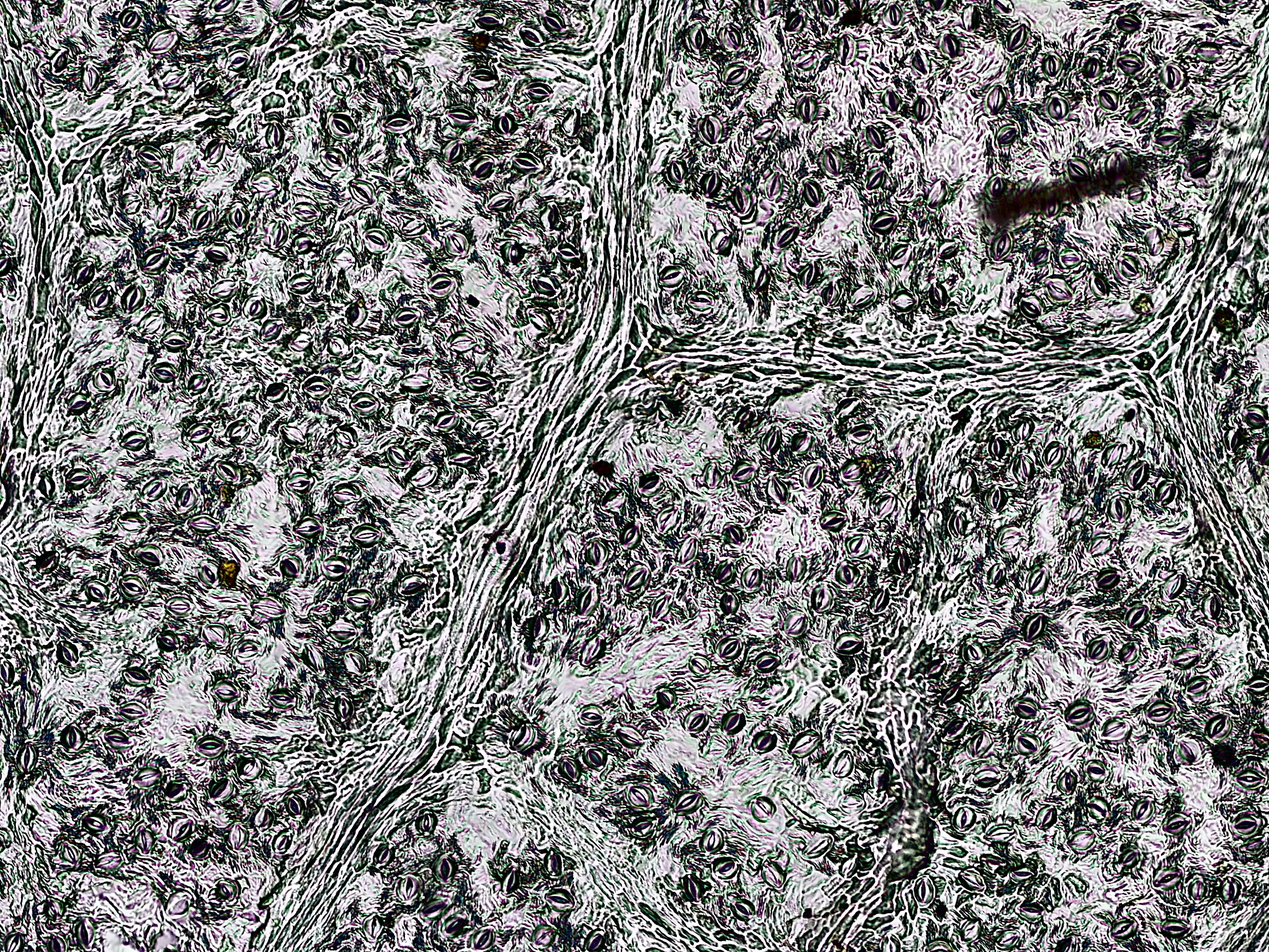stomata: (988, 228, 1017, 261), (13, 740, 39, 776), (509, 717, 535, 753), (963, 727, 991, 760), (320, 555, 354, 582), (787, 732, 823, 757), (621, 567, 652, 596), (1064, 700, 1097, 727), (195, 733, 229, 759), (656, 502, 682, 536), (351, 524, 386, 549), (324, 619, 359, 644), (325, 112, 356, 140), (819, 148, 847, 179), (581, 636, 609, 667), (948, 806, 979, 834), (225, 200, 251, 233), (196, 559, 225, 588), (832, 631, 863, 658), (1103, 150, 1129, 182), (994, 525, 1026, 551), (250, 595, 286, 618), (1194, 41, 1228, 65), (1044, 276, 1073, 304), (136, 143, 166, 170), (140, 247, 170, 274), (526, 306, 556, 333), (811, 584, 838, 614), (835, 563, 866, 589), (362, 912, 388, 943), (512, 149, 544, 174), (983, 83, 1007, 116), (330, 245, 357, 274), (427, 274, 456, 301), (1205, 713, 1232, 742), (672, 788, 703, 813), (802, 833, 833, 858), (1013, 733, 1044, 758), (120, 283, 144, 315), (1042, 440, 1066, 472), (913, 876, 936, 909), (539, 203, 566, 231), (720, 24, 747, 52), (235, 755, 264, 781), (762, 858, 788, 887), (301, 374, 331, 399), (350, 392, 380, 417), (1161, 63, 1186, 93), (580, 927, 610, 952), (148, 28, 179, 52), (117, 576, 148, 600), (796, 93, 820, 124), (293, 517, 325, 540), (463, 370, 495, 393), (613, 725, 645, 748), (1232, 813, 1267, 834), (959, 869, 986, 896), (847, 283, 875, 309), (155, 196, 177, 229), (816, 509, 849, 531), (1127, 461, 1149, 494), (1028, 564, 1050, 597), (1233, 767, 1266, 789), (397, 573, 427, 597), (1142, 229, 1166, 259), (1144, 699, 1174, 723), (116, 511, 147, 534), (444, 103, 475, 126), (292, 200, 323, 223), (302, 643, 325, 674), (763, 171, 786, 202), (1211, 355, 1234, 386), (629, 816, 660, 839), (273, 0, 305, 22), (164, 892, 191, 918), (443, 232, 470, 258), (1101, 716, 1127, 743), (706, 229, 734, 254), (873, 492, 898, 520), (1123, 602, 1148, 630), (683, 871, 703, 906), (71, 259, 95, 288), (165, 595, 194, 619), (408, 465, 437, 489), (561, 108, 585, 137), (1117, 51, 1146, 75), (682, 711, 711, 735), (627, 784, 656, 808), (1159, 814, 1192, 835), (60, 723, 83, 753), (688, 24, 711, 54), (585, 540, 608, 570), (1012, 454, 1035, 484), (741, 563, 764, 593), (1085, 634, 1108, 664), (1021, 612, 1044, 642), (285, 473, 316, 495), (468, 67, 499, 89), (521, 80, 552, 102), (401, 374, 435, 394), (710, 858, 744, 878), (1106, 498, 1132, 524), (530, 924, 556, 950), (352, 179, 377, 206), (386, 445, 413, 470), (1003, 24, 1028, 51), (782, 610, 807, 637), (396, 874, 421, 901), (444, 333, 476, 354), (862, 164, 886, 192), (656, 267, 688, 288), (1043, 96, 1067, 124), (577, 585, 598, 617), (1154, 478, 1175, 510), (89, 285, 112, 314), (332, 482, 361, 505), (699, 116, 722, 145), (678, 538, 701, 567), (801, 462, 824, 491), (946, 511, 969, 540), (869, 587, 892, 616), (189, 513, 219, 535), (801, 178, 823, 208), (687, 291, 717, 313), (982, 823, 1015, 843), (1018, 901, 1048, 923), (118, 699, 149, 720), (986, 485, 1007, 516), (118, 7, 143, 33), (138, 308, 163, 334), (1018, 296, 1044, 321), (433, 856, 458, 882), (1033, 806, 1059, 831), (1041, 53, 1065, 80), (76, 915, 95, 949), (204, 303, 232, 326), (212, 679, 240, 702), (720, 63, 748, 86), (766, 476, 789, 504), (650, 594, 673, 622), (1012, 417, 1035, 445), (751, 728, 774, 756), (959, 916, 982, 944), (963, 639, 986, 667), (227, 820, 247, 852), (733, 183, 753, 215), (1067, 829, 1096, 851), (207, 279, 237, 300), (134, 826, 155, 856), (226, 48, 251, 73), (717, 635, 742, 660), (202, 623, 228, 647), (364, 227, 388, 253), (493, 113, 519, 137), (797, 263, 821, 289), (1094, 568, 1120, 592), (472, 926, 496, 952), (583, 744, 607, 770), (1055, 768, 1079, 794), (141, 476, 168, 499), (208, 779, 231, 806), (279, 425, 306, 448), (344, 651, 367, 678), (519, 25, 546, 48), (541, 12, 568, 35), (554, 242, 581, 265), (701, 170, 724, 197), (636, 474, 663, 497), (711, 559, 734, 586), (531, 613, 551, 644), (1205, 592, 1225, 623), (911, 48, 933, 76), (1123, 104, 1151, 126), (940, 718, 968, 740), (836, 33, 854, 67), (64, 469, 93, 490), (316, 147, 345, 168), (242, 293, 263, 322), (471, 419, 500, 440), (731, 463, 760, 484), (761, 427, 782, 456), (545, 889, 574, 910), (381, 115, 413, 134), (266, 217, 285, 249), (393, 58, 413, 88), (333, 425, 358, 449), (891, 290, 916, 314), (1089, 532, 1114, 556), (1186, 674, 1211, 698), (213, 460, 239, 483), (1117, 11, 1143, 34), (732, 896, 755, 922), (750, 797, 773, 823), (1178, 738, 1201, 764), (192, 208, 214, 235), (133, 765, 160, 787), (95, 851, 122, 873), (987, 174, 1009, 201), (1066, 159, 1093, 181), (1132, 797, 1154, 824), (914, 95, 933, 126), (958, 465, 977, 496), (161, 330, 189, 351), (151, 362, 179, 383), (185, 422, 213, 443), (176, 483, 197, 511), (285, 793, 306, 821), (531, 273, 559, 294), (928, 180, 949, 208), (846, 424, 874, 445), (1220, 875, 1241, 903), (787, 553, 807, 582), (226, 419, 250, 443), (169, 816, 193, 840), (330, 73, 354, 97), (280, 553, 303, 578), (188, 838, 213, 861), (216, 878, 239, 903), (260, 319, 285, 342), (501, 241, 524, 266), (346, 589, 371, 612), (994, 124, 1019, 147), (891, 552, 914, 577), (468, 155, 494, 177), (1243, 405, 1269, 427), (1171, 647, 1197, 669), (440, 916, 466, 938), (839, 793, 865, 815), (270, 689, 297, 710), (1099, 87, 1120, 114), (599, 489, 626, 510), (416, 809, 437, 836), (577, 704, 604, 725), (266, 122, 286, 150), (203, 241, 231, 261), (58, 639, 78, 667), (122, 667, 150, 687), (334, 695, 354, 723), (475, 10, 503, 30), (549, 575, 569, 603), (834, 397, 862, 417), (987, 433, 1007, 461), (559, 755, 579, 783), (1153, 869, 1181, 889), (929, 281, 947, 312), (1102, 439, 1120, 470), (500, 865, 518, 896), (889, 242, 912, 266), (721, 710, 744, 734), (700, 828, 723, 852), (866, 123, 885, 152), (973, 768, 1002, 787), (84, 580, 109, 602), (157, 629, 182, 651), (205, 924, 227, 949), (253, 807, 275, 832), (753, 120, 778, 142), (203, 138, 224, 164), (235, 639, 261, 660), (940, 33, 961, 59), (847, 533, 868, 559), (117, 430, 144, 450), (106, 729, 133, 749), (288, 273, 315, 293), (832, 751, 852, 778), (1014, 699, 1041, 719), (349, 50, 368, 78), (1154, 129, 1182, 148), (1246, 674, 1269, 697), (82, 811, 106, 833), (435, 409, 459, 431), (774, 224, 798, 246), (371, 843, 393, 867), (248, 173, 279, 190), (960, 6, 981, 31), (820, 281, 841, 306), (620, 524, 641, 549), (1163, 572, 1184, 597), (1119, 642, 1144, 663), (923, 658, 948, 679), (749, 265, 767, 294), (753, 655, 782, 673), (346, 301, 366, 327), (883, 3, 903, 29), (1057, 247, 1083, 267), (1110, 918, 1136, 938), (1190, 878, 1210, 904), (45, 896, 64, 923), (447, 450, 477, 467), (36, 551, 58, 574), (167, 780, 189, 803), (782, 12, 804, 35), (735, 405, 757, 428), (792, 433, 815, 455), (1064, 501, 1087, 523), (719, 592, 741, 615), (401, 219, 429, 237), (487, 194, 515, 212), (795, 50, 819, 71), (1083, 56, 1104, 80), (1187, 158, 1211, 179), (80, 65, 100, 90), (137, 545, 162, 565), (938, 684, 963, 704), (1085, 760, 1110, 780), (870, 765, 889, 791), (980, 854, 1006, 873), (1162, 918, 1188, 937), (840, 850, 858, 877), (119, 193, 141, 215), (187, 373, 209, 395), (396, 308, 419, 329), (872, 211, 895, 232), (1119, 256, 1140, 279), (1087, 797, 1108, 820), (193, 79, 217, 99), (65, 394, 89, 414), (0, 656, 15, 688), (883, 89, 901, 115), (95, 369, 116, 391), (264, 381, 286, 402), (273, 832, 293, 855), (162, 70, 186, 89), (667, 160, 686, 184), (1090, 275, 1109, 299), (878, 933, 902, 952), (209, 0, 239, 15), (421, 900, 449, 916), (657, 687, 678, 708), (62, 843, 82, 865), (289, 334, 313, 352), (1043, 195, 1061, 219), (726, 522, 744, 546), (545, 853, 563, 877), (49, 48, 66, 73), (1011, 866, 1036, 883), (3, 931, 23, 952), (389, 160, 410, 180), (818, 0, 839, 20), (997, 929, 1018, 949), (690, 654, 709, 676), (905, 495, 921, 521), (989, 561, 1005, 587), (38, 475, 56, 498), (1055, 934, 1078, 952), (328, 335, 347, 356), (750, 0, 771, 19), (364, 146, 386, 164), (707, 461, 721, 489), (445, 139, 461, 163), (47, 933, 67, 952), (294, 234, 314, 253), (1173, 218, 1196, 234), (1120, 848, 1139, 867), (1030, 245, 1048, 265), (842, 460, 860, 480), (870, 465, 890, 483), (938, 243, 959, 260), (1126, 185, 1147, 202), (992, 0, 1016, 14), (1228, 428, 1242, 451), (927, 941, 952, 952), (704, 0, 726, 12), (1258, 442, 1269, 464), (846, 0, 866, 12), (0, 254, 12, 273), (932, 0, 950, 12)
